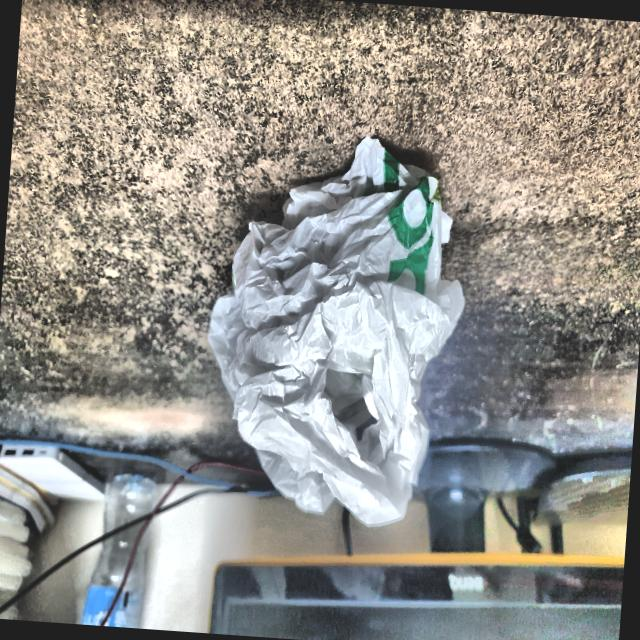plastic bag: (182, 109, 480, 542)
